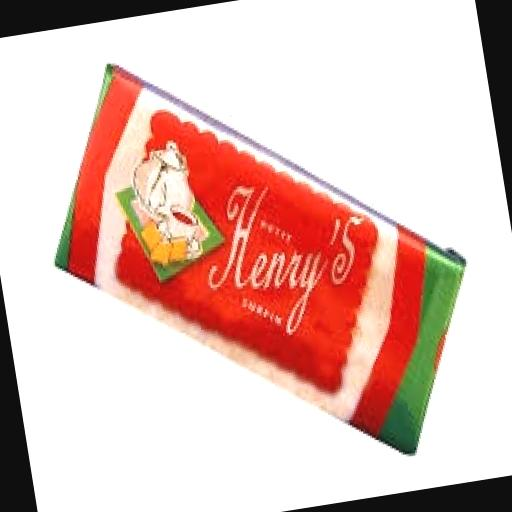golden: (16, 22, 448, 407)
